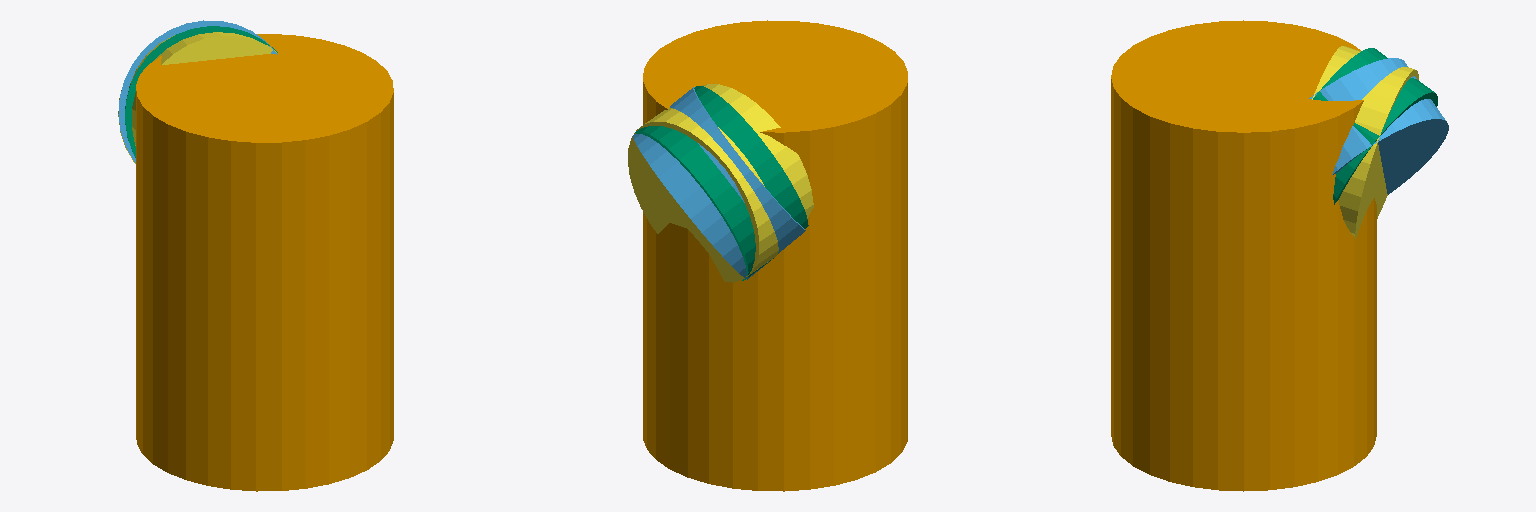
robot.urdf — pepe:
<?xml version="1.0"?><robot name="pepe">
	<link name="0">
		<visual>
			<geometry>
				<cylinder length="2.9780468539074367" radius="0.9999"/>
			</geometry>
		</visual>
		<collision>
			<geometry>
				<cylinder length="2.9780468539074367" radius="0.9999"/>
			</geometry>
		</collision>
		<inertial>
			<mass value="9.353939049816244"/>
			<inertia ixx="0.03" iyy="0.03" izz="0.03" ixy="0" ixz="0" iyx="0"/>
		</inertial>
	</link>
	<link name="11">
		<visual>
			<geometry>
				<cylinder length="0.582590645104403" radius="0.6946852157038984"/>
			</geometry>
		</visual>
		<collision>
			<geometry>
				<cylinder length="0.582590645104403" radius="0.6946852157038984"/>
			</geometry>
		</collision>
		<inertial>
			<mass value="0.8832618892675721"/>
			<inertia ixx="0.03" iyy="0.03" izz="0.03" ixy="0" ixz="0" iyx="0"/>
		</inertial>
	</link>
	<link name="12">
		<visual>
			<geometry>
				<cylinder length="0.582590645104403" radius="0.6946852157038984"/>
			</geometry>
		</visual>
		<collision>
			<geometry>
				<cylinder length="0.582590645104403" radius="0.6946852157038984"/>
			</geometry>
		</collision>
		<inertial>
			<mass value="0.8832618892675721"/>
			<inertia ixx="0.03" iyy="0.03" izz="0.03" ixy="0" ixz="0" iyx="0"/>
		</inertial>
	</link>
	<link name="13">
		<visual>
			<geometry>
				<cylinder length="0.582590645104403" radius="0.6946852157038984"/>
			</geometry>
		</visual>
		<collision>
			<geometry>
				<cylinder length="0.582590645104403" radius="0.6946852157038984"/>
			</geometry>
		</collision>
		<inertial>
			<mass value="0.8832618892675721"/>
			<inertia ixx="0.03" iyy="0.03" izz="0.03" ixy="0" ixz="0" iyx="0"/>
		</inertial>
	</link>
	<joint name="11_to_0" type="revolute">
		<parent link="0"/>
		<child link="11"/>
		<axis xyz="0 1 0"/>
		<limit effort="1" upper="-3.1415" lower="3.1415" velocity="1"/>
		<origin rpy="11.930943478905922 0.7320380403022715 3.0690841649174585" xyz="0.012173695424175568 0.8040828675276419 0.9258188655549258"/>
	</joint>
	<joint name="12_to_0" type="revolute">
		<parent link="0"/>
		<child link="12"/>
		<axis xyz="0 1 0"/>
		<limit effort="1" upper="-3.1415" lower="3.1415" velocity="1"/>
		<origin rpy="17.896415218358882 0.7320380403022715 3.0690841649174585" xyz="0.012173695424175568 0.8040828675276419 0.9258188655549258"/>
	</joint>
	<joint name="13_to_0" type="revolute">
		<parent link="0"/>
		<child link="13"/>
		<axis xyz="0 1 0"/>
		<limit effort="1" upper="-3.1415" lower="3.1415" velocity="1"/>
		<origin rpy="23.861886957811844 0.7320380403022715 3.0690841649174585" xyz="0.012173695424175568 0.8040828675276419 0.9258188655549258"/>
	</joint>
</robot>

--- Render facts (derived) ---
3 views of the same robot in one strip: view 1: azimuth 30°, elevation 25°; view 2: azimuth 150°, elevation 25°; view 3: azimuth 270°, elevation 25° (orthographic).
Model pepe with 4 links and 3 joints (3 revolute), rooted at 0, posed every joint at zero.
Visible links, largest first — view 1: 0, 13, 12, 11; view 2: 0, 13, 12, 11; view 3: 0, 11, 13, 12.
Link boxes in pixels (x1,y1,x2,y2): 0: (136, 34, 393, 491); 13: (118, 32, 276, 163); 12: (125, 26, 277, 157); 11: (118, 20, 277, 162); 0: (643, 20, 907, 491); 13: (628, 84, 813, 282); 12: (635, 86, 808, 280); 11: (633, 87, 805, 279); 0: (1111, 20, 1376, 491); 11: (1309, 58, 1448, 194); 13: (1312, 46, 1418, 238); 12: (1313, 48, 1437, 204).
Bounding box of the posed robot: 2 × 2.54 × 3.17 m (x, y, z).
Geometry: primitives only (box / cylinder / sphere), no mesh files.
